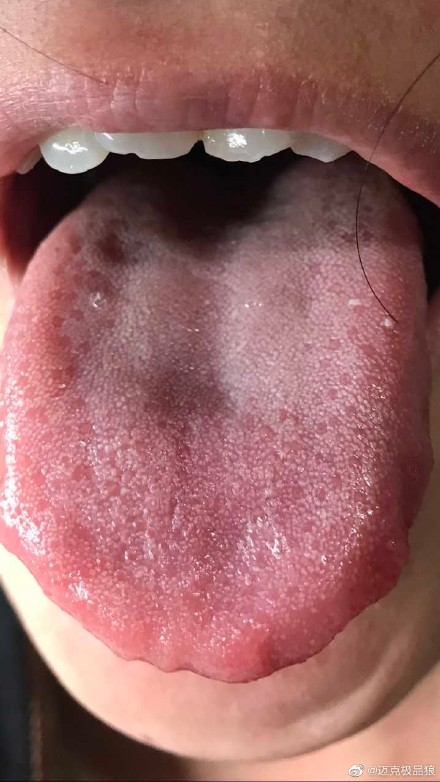baitaishe: (1, 160, 431, 684)
hongshe: (1, 160, 431, 684)
